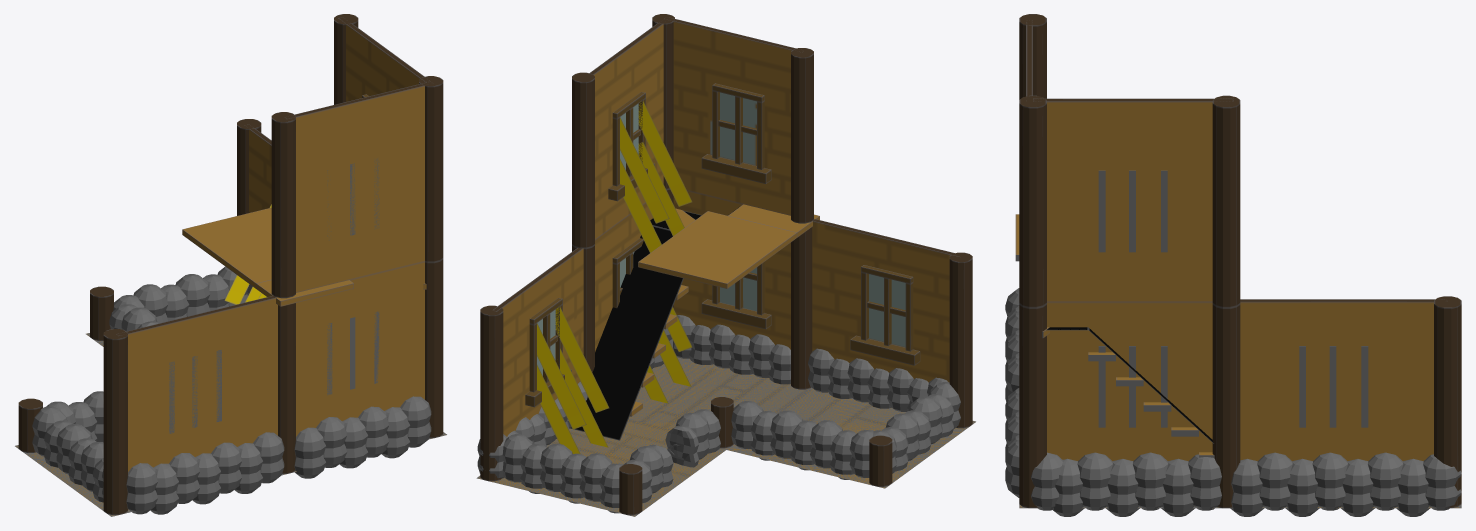
The model's file is Interier.fbx.
3 renders of one model, left to right at view 1: azimuth 30°, elevation 25°; view 2: azimuth 150°, elevation 25°; view 3: azimuth 270°, elevation 25°, orthographic. The views are drawn at different scales.
Visible parts, largest first — view 1: cube_3, cube_11, cylinder_8, cylinder_7, cube_17, cylinder_10, cube_12, cylinder_5, cylinder_6, cube_2, cylinder_2, cylinder_9 (+28 smaller); view 2: cube_3, cube_11, cube_2, cube, cube_13, cube_12, cube_17, cube_1, cylinder_9, cylinder_8, cylinder_2, cylinder_7 (+37 smaller); view 3: cube_2, cube_12, cylinder_9, cylinder_10, cylinder_4, cylinder_5, cylinder_2, cylinder_8, sphere_3, sphere_7, sphere_11, sphere_33 (+34 smaller).
Part boxes in pixels (x1,y1,x2,y2): cube_3: (116, 261, 424, 509); cube_11: (285, 82, 428, 292); cylinder_8: (271, 112, 295, 298); cylinder_7: (103, 329, 127, 514); cube_17: (182, 207, 271, 288); cylinder_10: (419, 76, 443, 262); cube_12: (338, 17, 430, 101); cylinder_5: (425, 259, 443, 438); cylinder_6: (278, 303, 295, 473); cube_2: (244, 124, 271, 212); cylinder_2: (237, 119, 261, 215); cylinder_9: (334, 14, 358, 104); cube_3: (673, 190, 959, 382); cube_11: (664, 17, 803, 215); cube_2: (493, 203, 652, 436); cube: (476, 357, 809, 516); cube_13: (570, 225, 683, 440); cube_12: (589, 19, 664, 239); cube_17: (638, 211, 796, 288); cube_1: (727, 387, 975, 488); cylinder_9: (572, 72, 594, 248); cylinder_8: (791, 48, 813, 223); cylinder_2: (480, 305, 503, 481); cylinder_7: (949, 252, 972, 428); cube_2: (1047, 299, 1447, 461); cube_12: (1033, 98, 1233, 301); cylinder_9: (1212, 95, 1240, 307); cylinder_10: (1019, 95, 1046, 307); cylinder_4: (1212, 304, 1240, 508); cylinder_5: (1019, 304, 1046, 508); cylinder_2: (1434, 296, 1461, 508); cylinder_8: (1019, 14, 1046, 99); sphere_3: (1257, 452, 1292, 488); sphere_7: (1312, 452, 1347, 488); sphere_11: (1368, 452, 1403, 488); sphere_33: (1133, 452, 1168, 488).
Size of the model in its own units: 102 by 103 by 103.
1 material, 1 textured.
